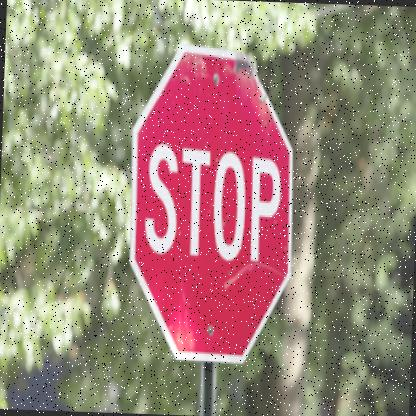stop: (122, 41, 302, 361)
